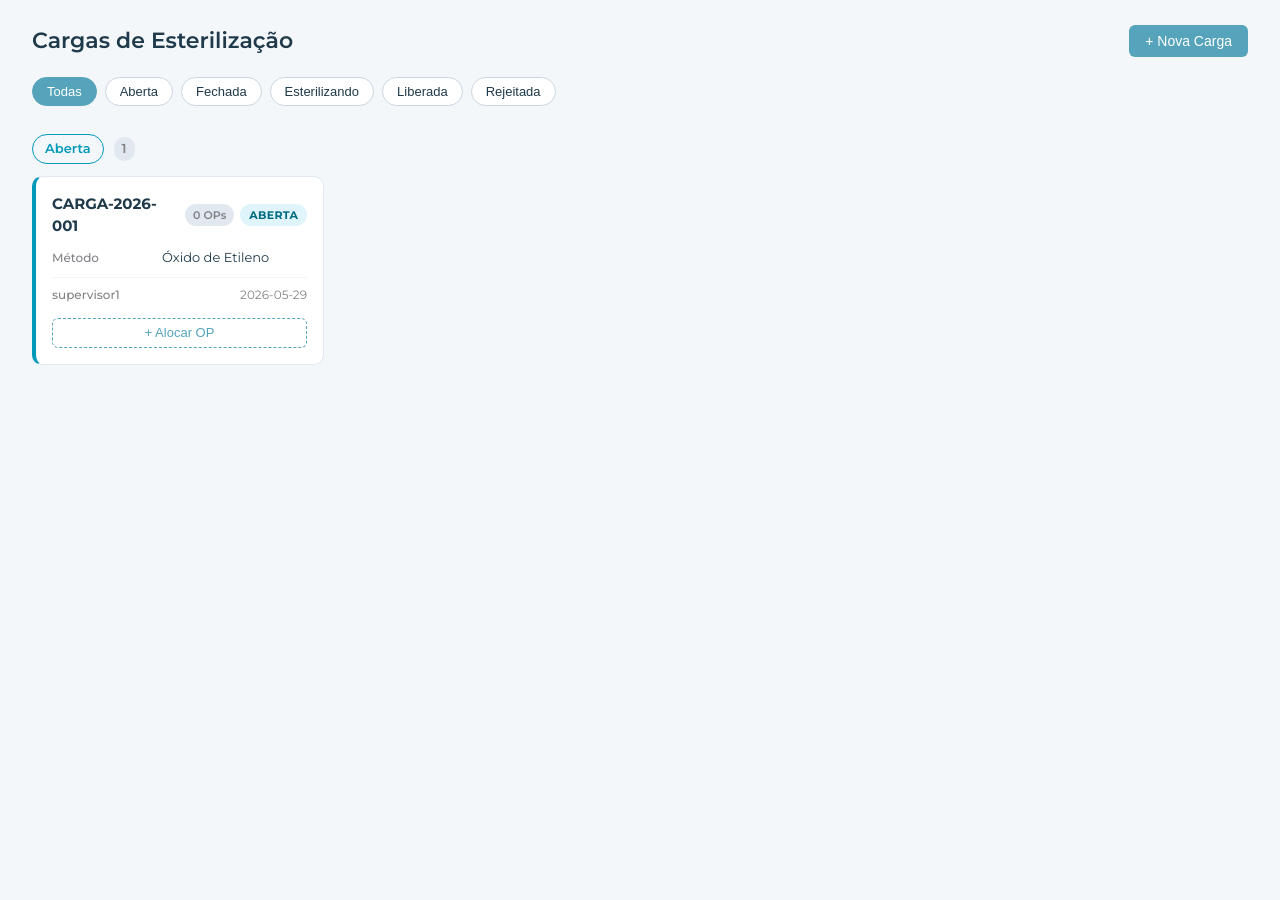
Test: SterilizationLoadsComponent › create form › should show create form when "Nova Carga" is clicked
Click the button with test id "btn-new-load" at (1189, 40), box [1129, 24, 1248, 56]
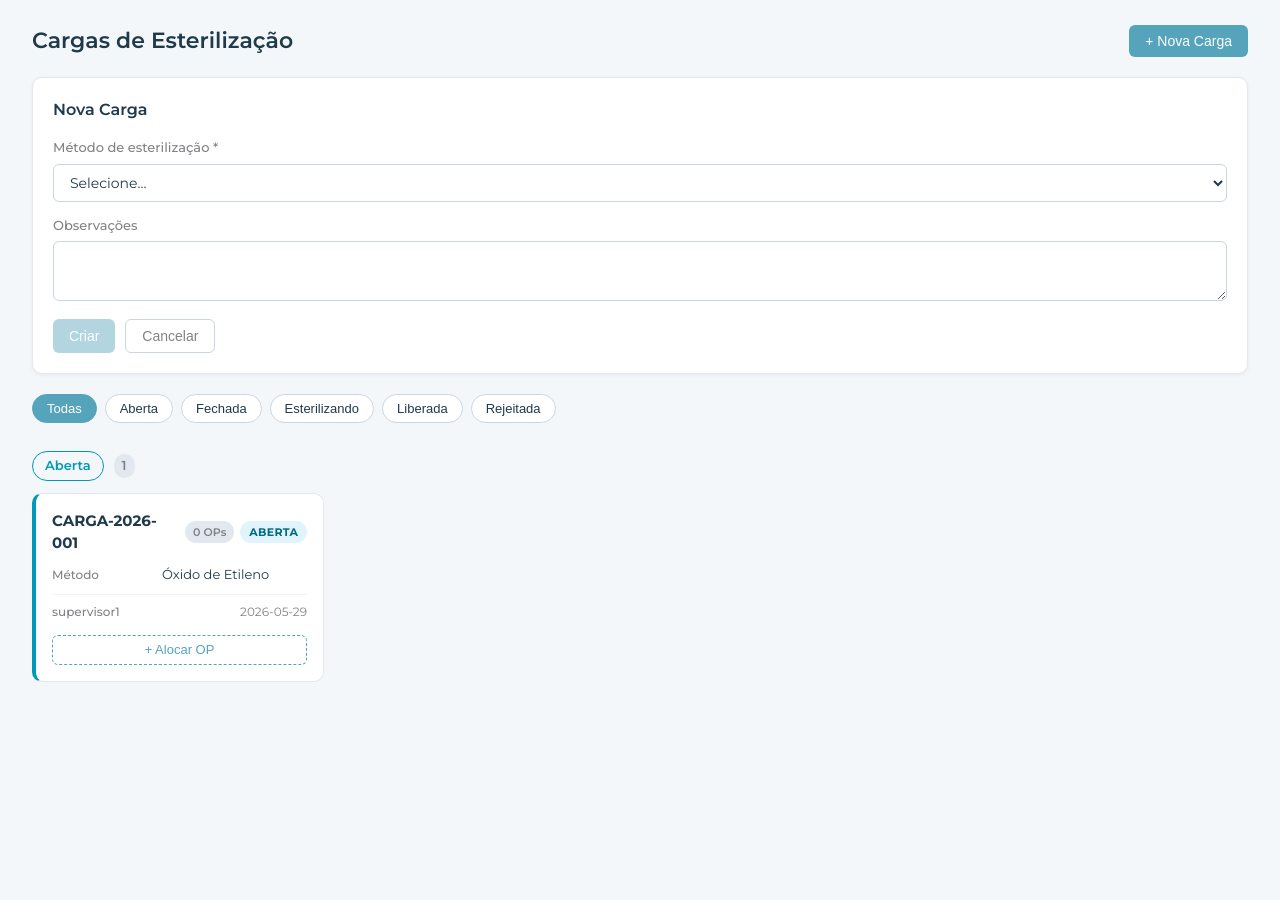
Now the 1st element with test id "create-form" is shown, box [32, 77, 1248, 374]
